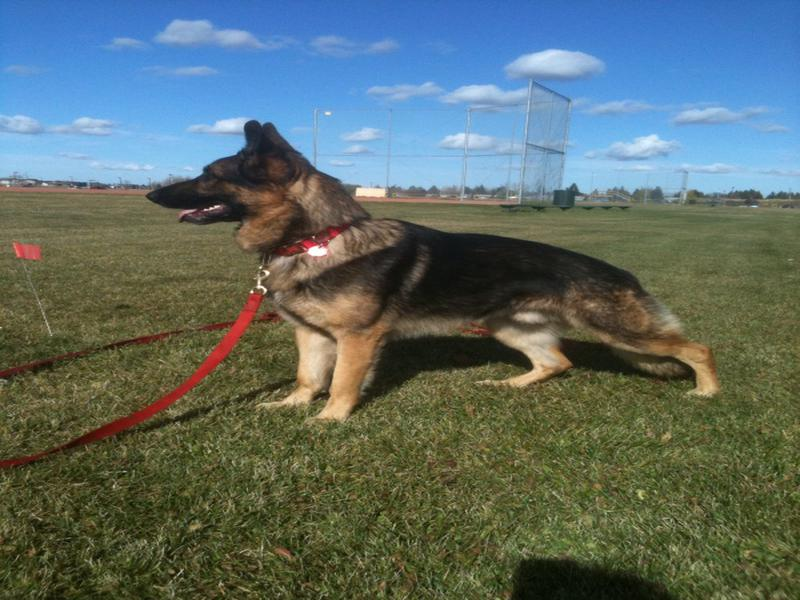dog_stand: (139, 109, 723, 423)
